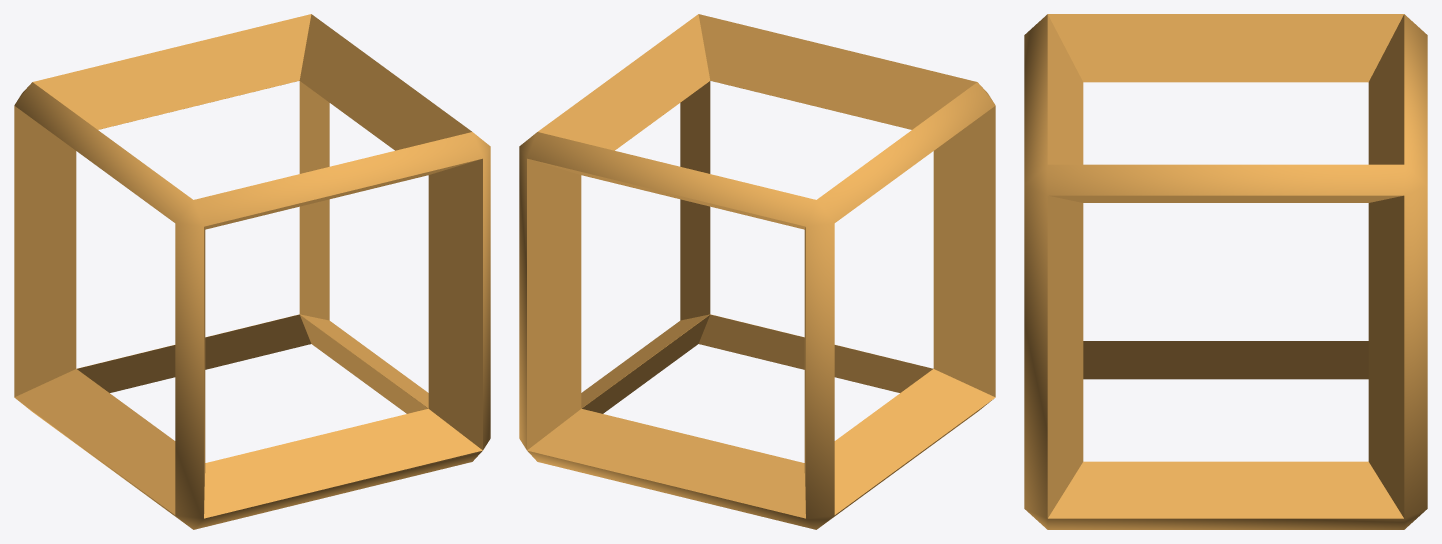
File: CubeMesh_01.fbx
3 views of the same model, side by side, from view 1: azimuth 30°, elevation 25°; view 2: azimuth 150°, elevation 25°; view 3: azimuth 270°, elevation 25° (orthographic). The views are drawn at different scales.
Visible parts, largest first — view 1: CubeMesh_01; view 2: CubeMesh_01; view 3: CubeMesh_01.
Boxes of the visible parts, box(x1,y1,x2,y2) form: CubeMesh_01: box(14, 14, 490, 529); CubeMesh_01: box(519, 14, 995, 529); CubeMesh_01: box(1024, 14, 1427, 529).
Bounding box in the file's own units: 260 × 260 × 260.
